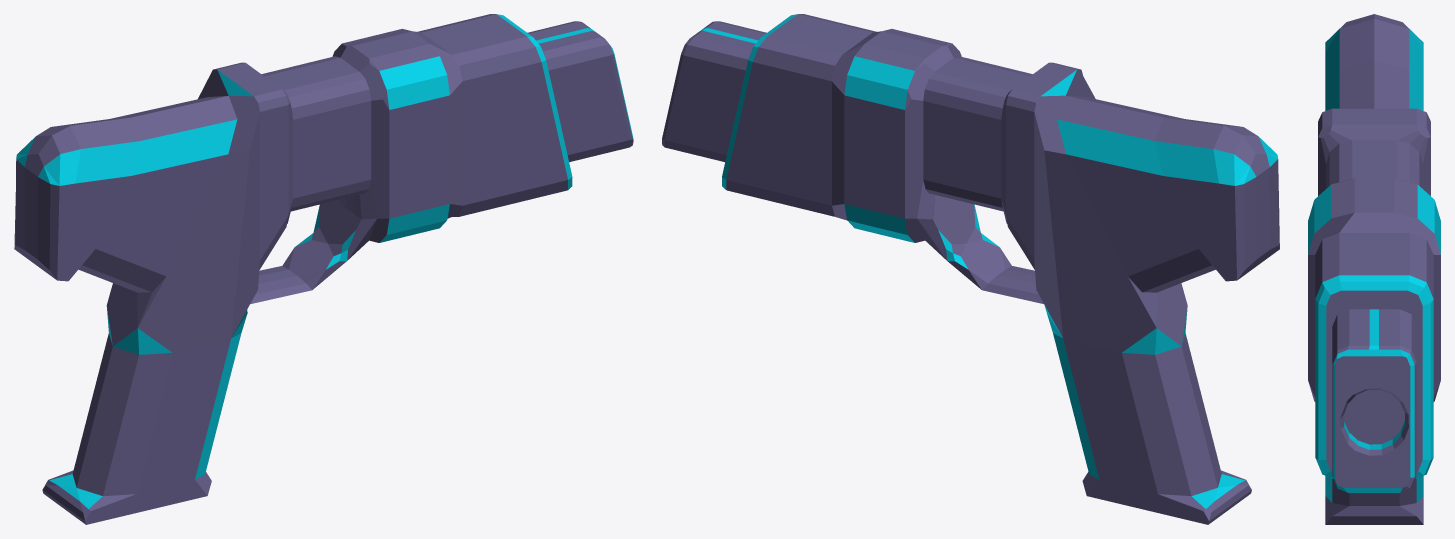
The model's file is Gun.fbx.
3 renders of one model, left to right at view 1: azimuth 30°, elevation 25°; view 2: azimuth 150°, elevation 25°; view 3: azimuth 270°, elevation 25°, orthographic. The views are drawn at different scales.
Visible parts, largest first — view 1: Cube.001; view 2: Cube.001; view 3: Cube.001.
Boxes of the visible parts, left/top/right/bottom form: Cube.001: left=14, top=14, right=633, bottom=524; Cube.001: left=662, top=14, right=1279, bottom=524; Cube.001: left=1308, top=14, right=1440, bottom=524.
Size of the model in its own units: 356 by 223 by 60.59.
